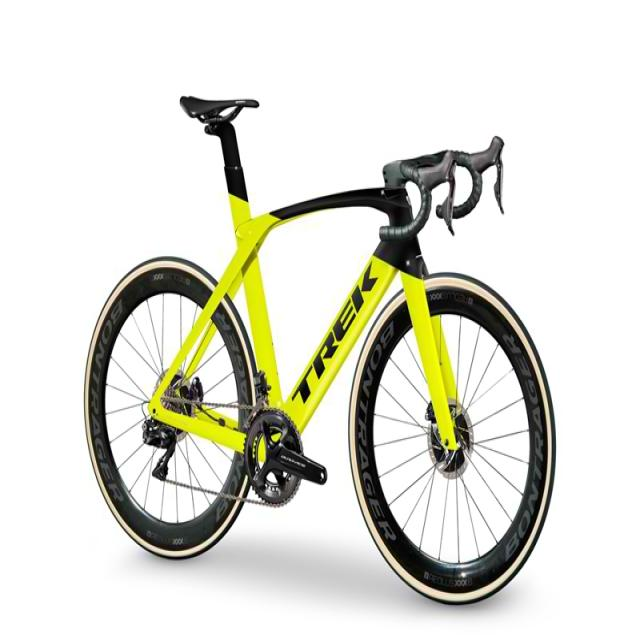bicycle: (85, 98, 555, 601)
